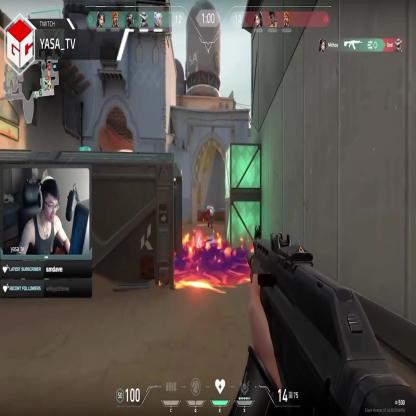enemy: (208, 202, 214, 229)
enemy_head: (209, 203, 212, 209)
